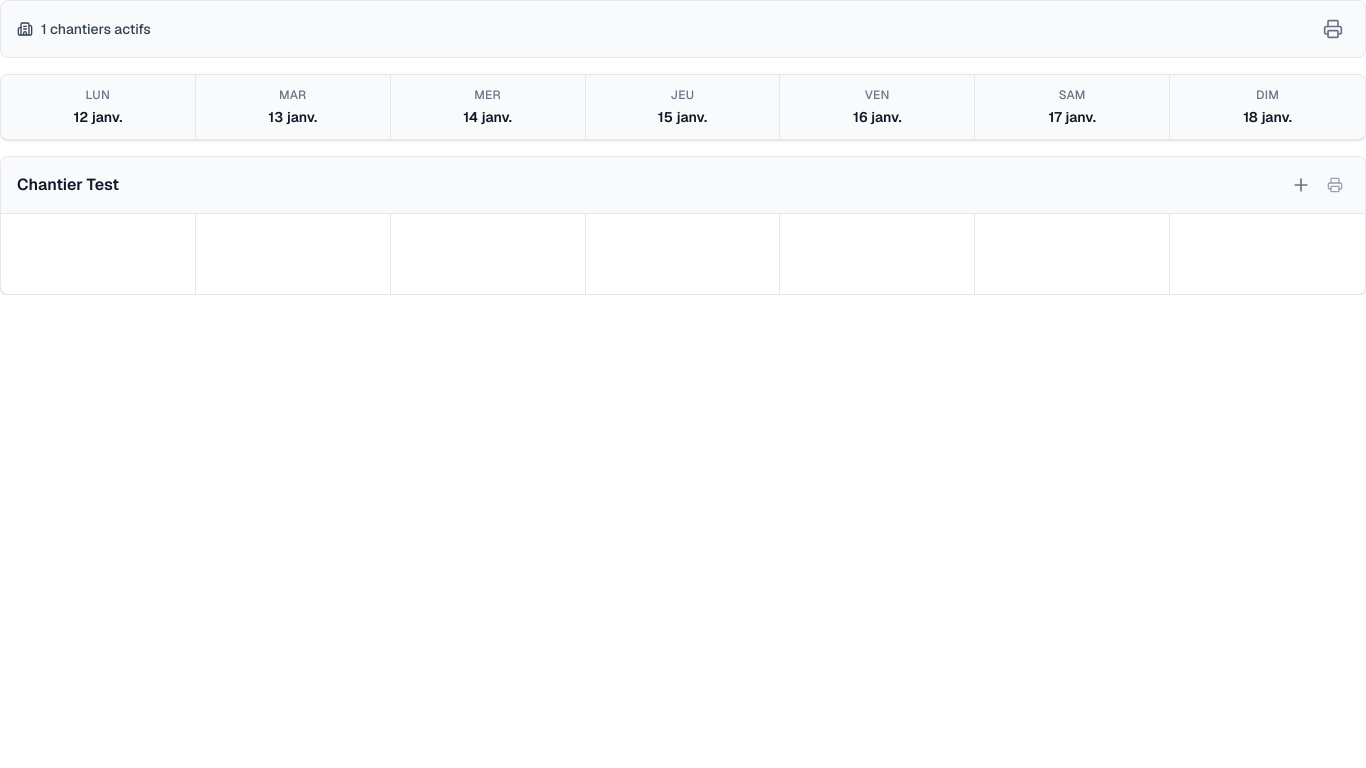
Test case: VueChantierClient - Bouton "+" multi-ouvriers › ouvre le modal multi-jours au clic sur le bouton "+"
The width and height of the screenshot is (1366, 768).
Click the button named "affecter des ouvriers au chantier".
click(1301, 185)  # box [1285, 169, 1317, 201]
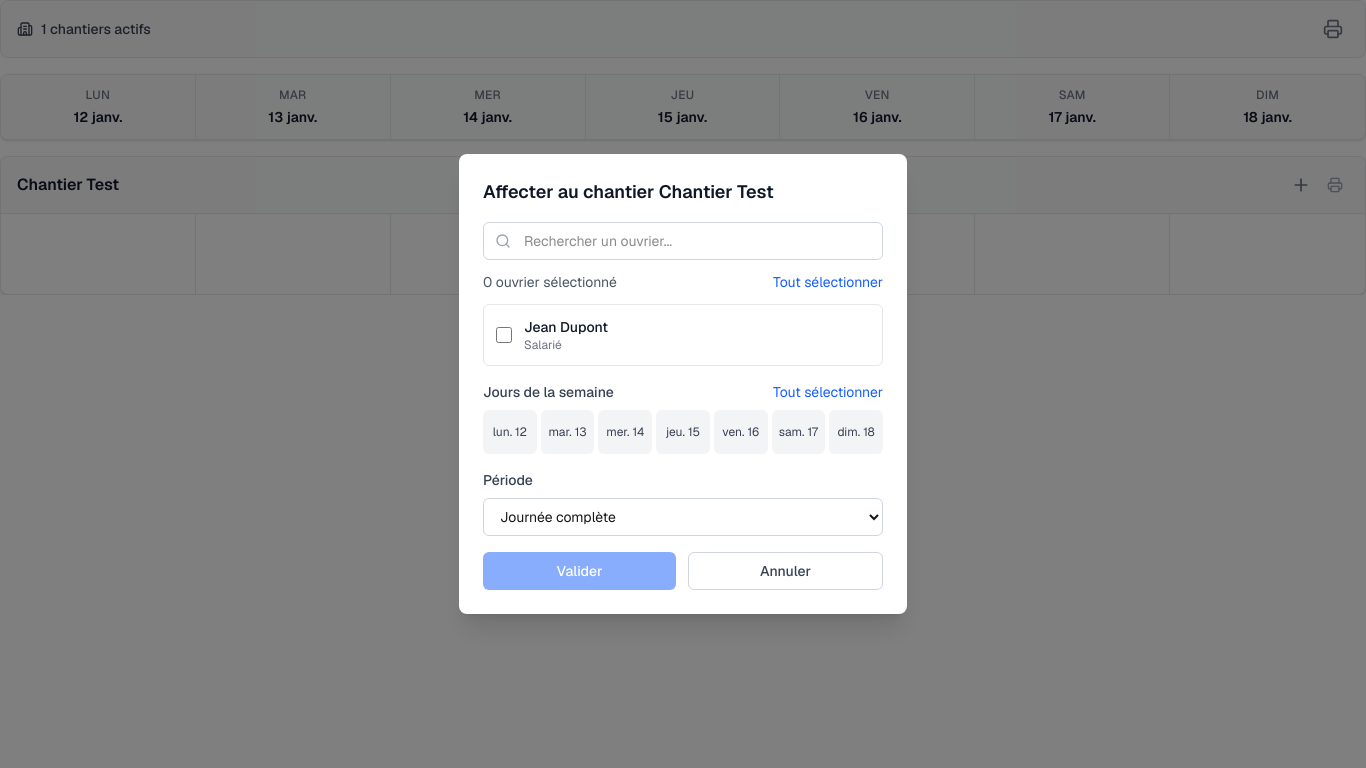
Check: the heading "Affecter au chantier Chantier Test" is shown, box [483, 180, 774, 203]
